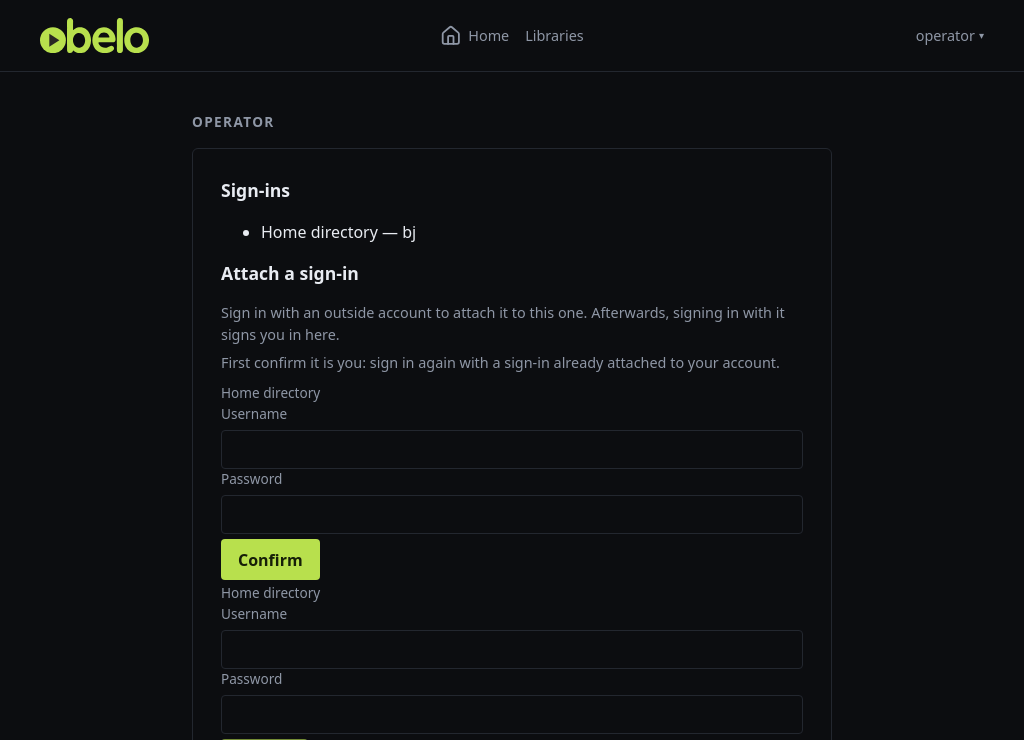
confirming it is you before an attach › has a User with no Local password confirm through a sign-in they hold, then attaches once with it
Type "bj" into the field with test id "profile-reauth-username-directory" at (512,449), box left=221, top=430, right=803, bottom=469
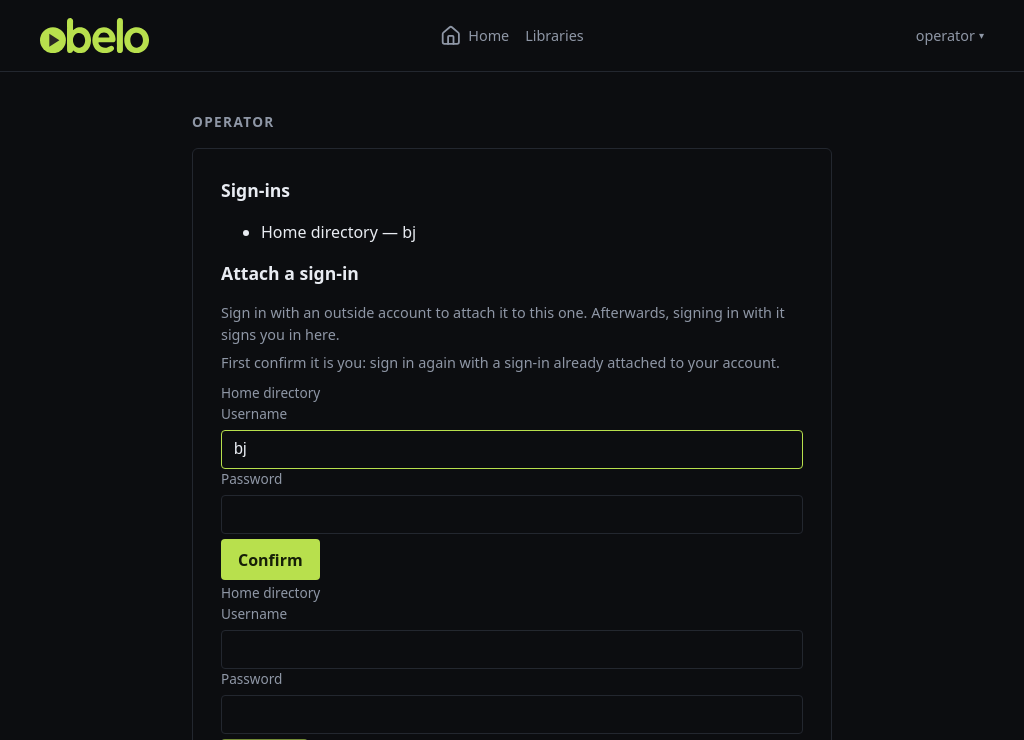
Type "bj-pw" into the password field with test id "profile-reauth-password-directory" at (512,514), box left=221, top=495, right=803, bottom=534
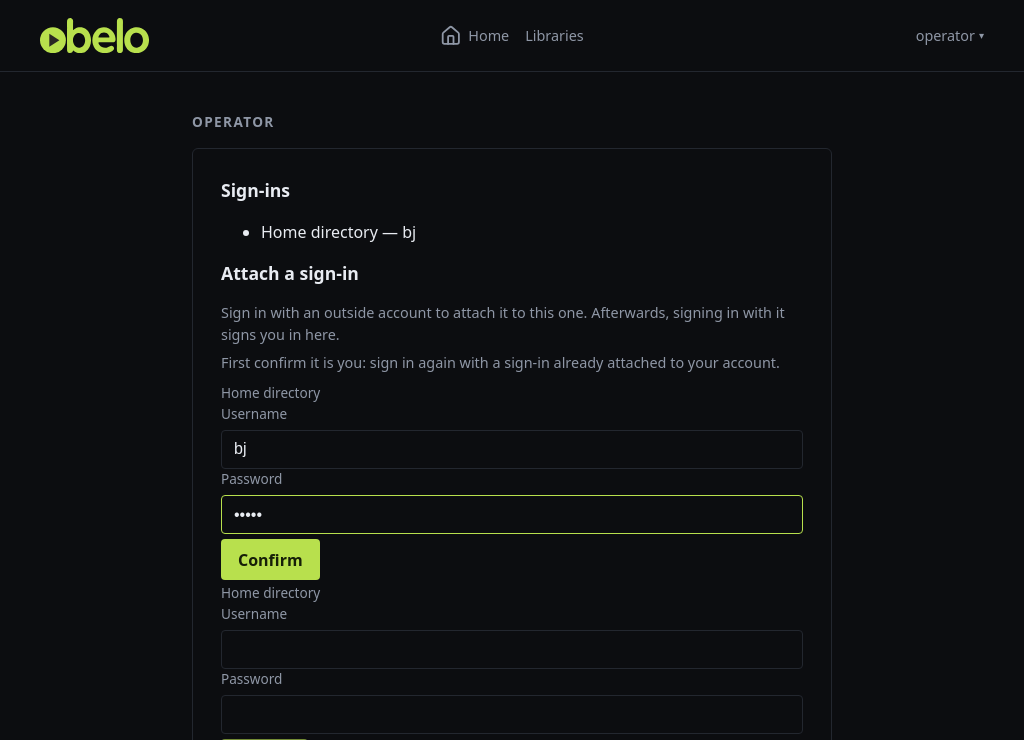
Click the button with test id "profile-reauth-submit-directory" at (270,560), box left=221, top=539, right=320, bottom=580
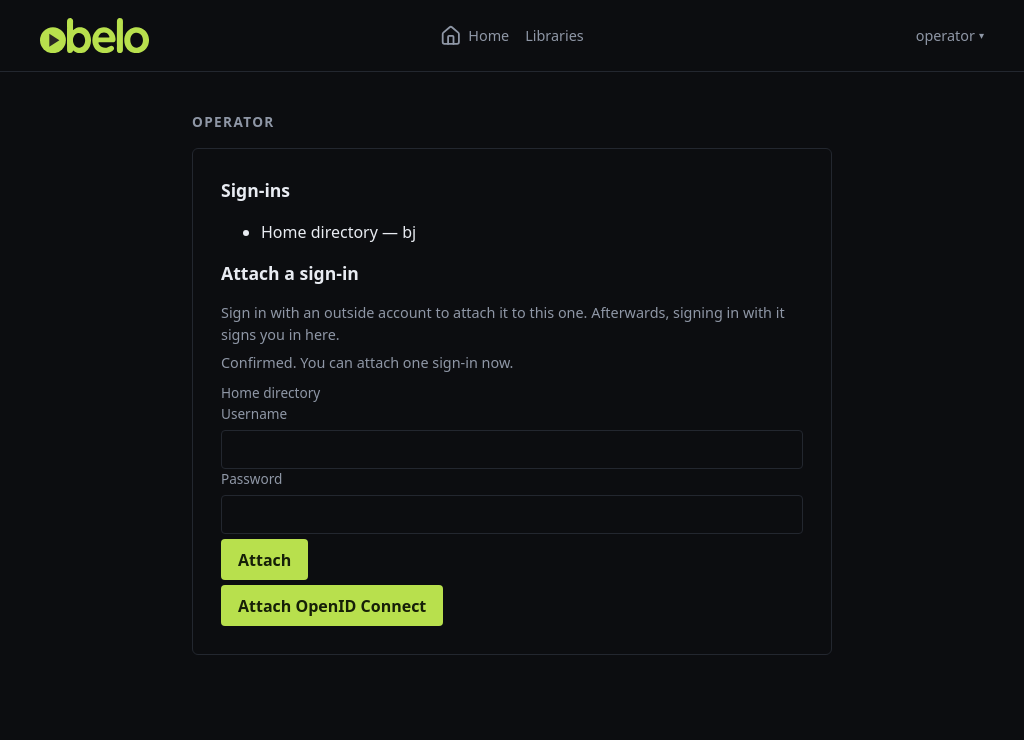
Expected: the button with test id "profile-attach-submit-directory" is enabled, left=221, top=539, right=308, bottom=580
Type "bj2" into the field with test id "profile-attach-username-directory" at (512,449), box left=221, top=430, right=803, bottom=469
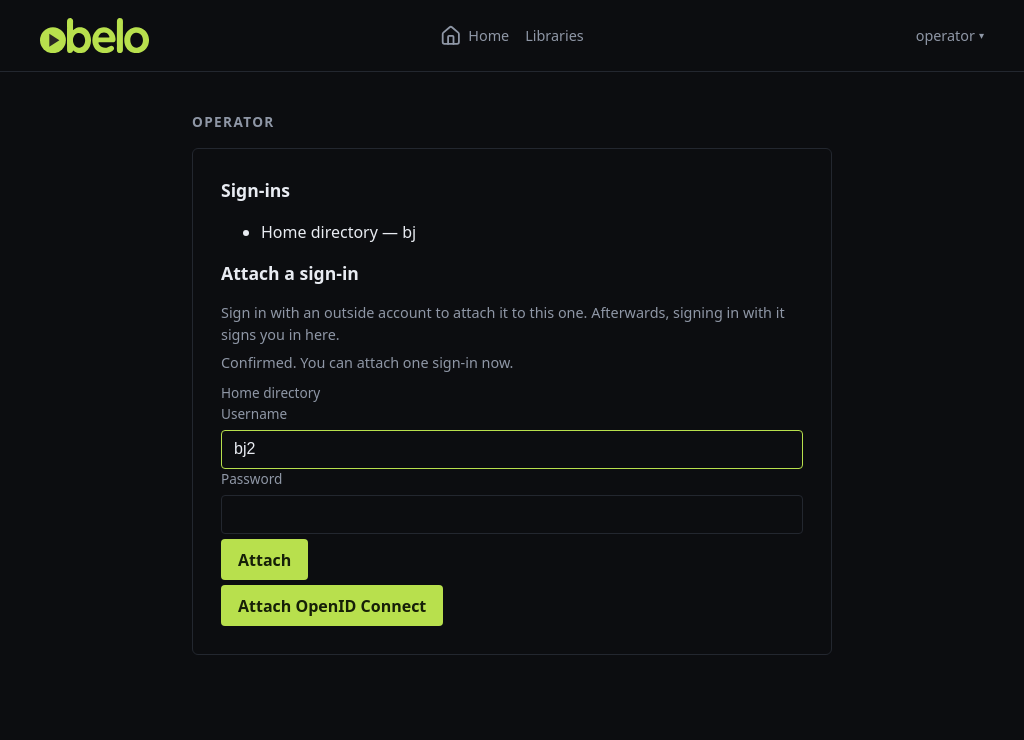
Type "pw2" into the password field with test id "profile-attach-password-directory" at (512,514), box left=221, top=495, right=803, bottom=534
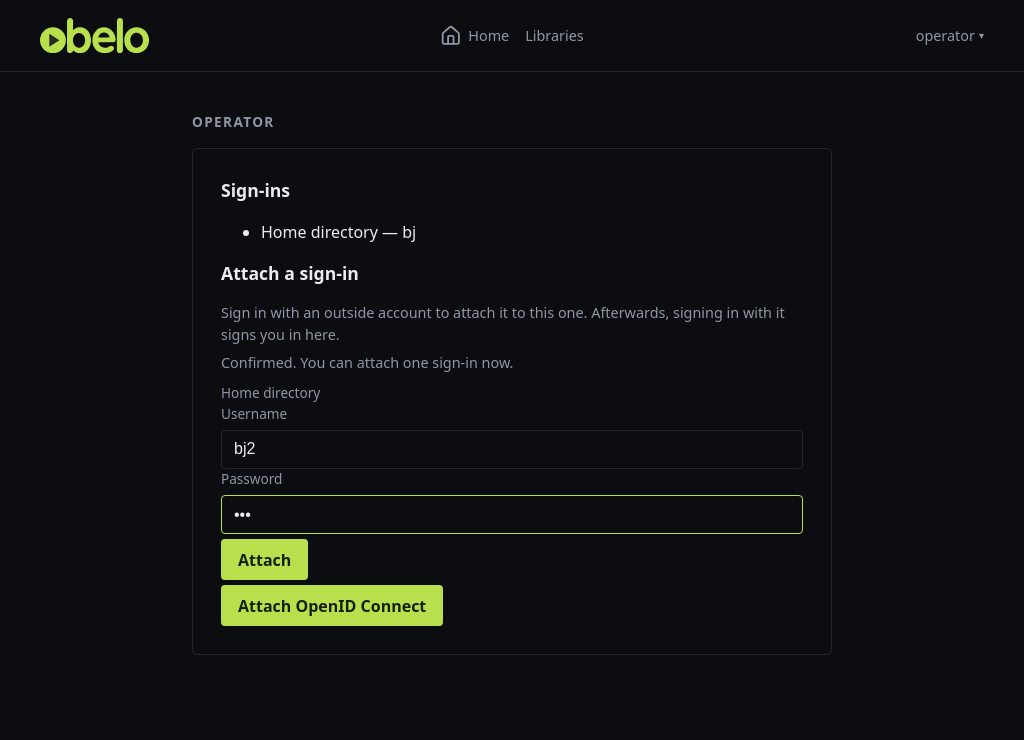
Click the button with test id "profile-attach-submit-directory" at (265,560), box left=221, top=539, right=308, bottom=580
(page scrolled)
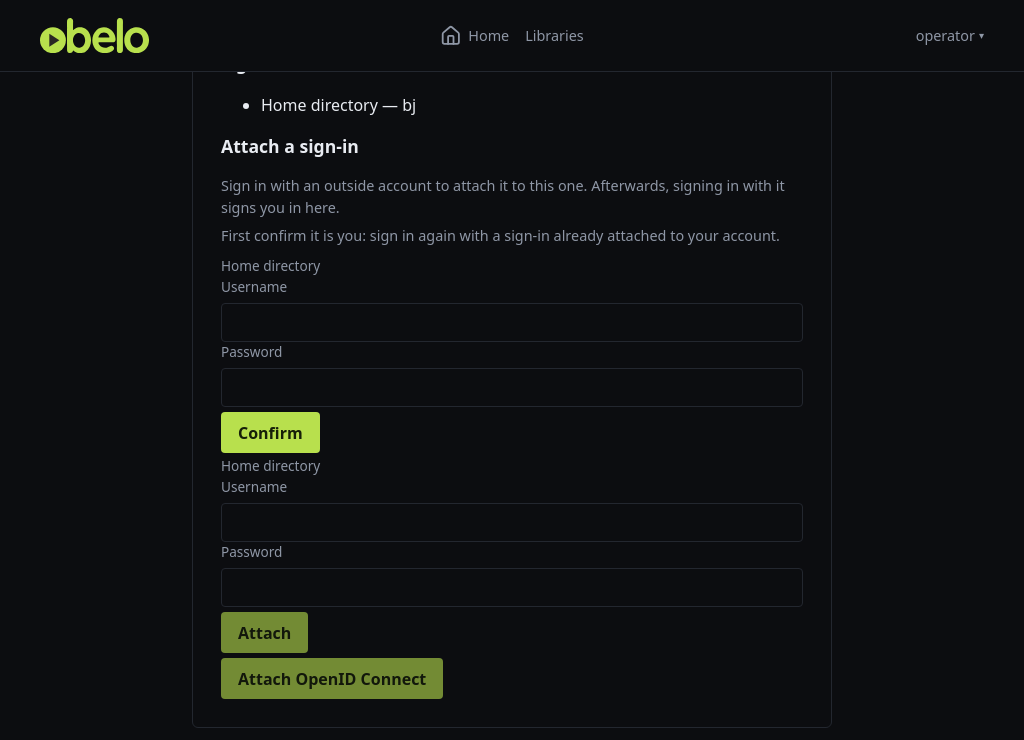
Expected: the button with test id "profile-attach-submit-directory" is disabled, left=221, top=612, right=308, bottom=654
